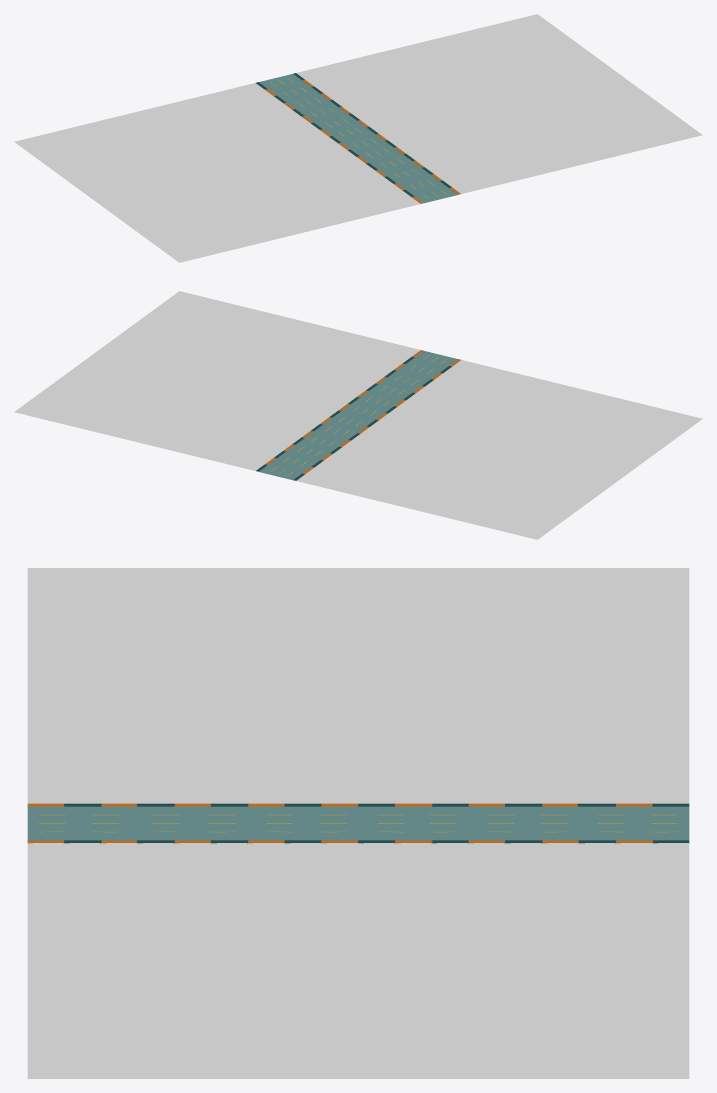
The model's file is pista_nieve.fbx.
3 views of the same model, one above another, from view 1: azimuth 30°, elevation 25°; view 2: azimuth 150°, elevation 25°; view 3: azimuth 270°, elevation 25° (orthographic). The views are drawn at different scales.
Parts seen in each view (by area): view 1: pista_nieve:Mesh; view 2: pista_nieve:Mesh; view 3: pista_nieve:Mesh.
Boxes of the visible parts, box(x1,y1,x2,y2) form: pista_nieve:Mesh: box(14, 14, 702, 262); pista_nieve:Mesh: box(14, 291, 702, 539); pista_nieve:Mesh: box(27, 568, 689, 1078).
Size of the model in its own units: 2703 by 0.7204 by 1479.
Materials: 1 (1 with a texture image).
